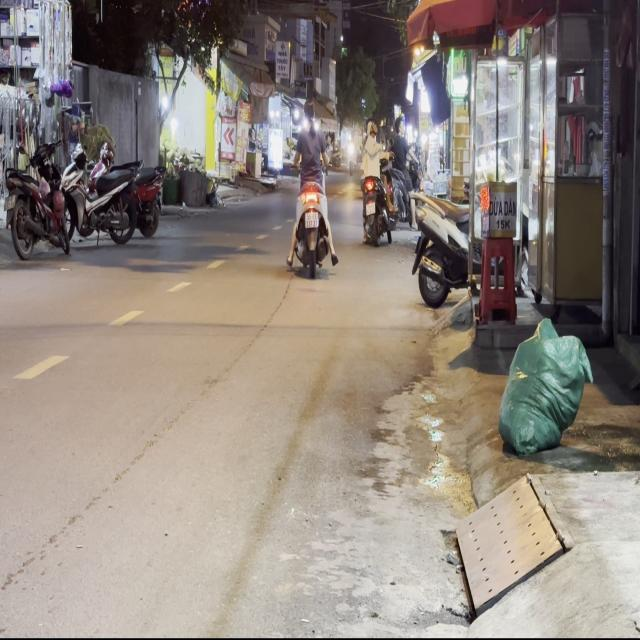licenseplate: (286, 94, 336, 276)
motorcyclist: (302, 97, 317, 126)
nohelmet: (305, 212, 319, 228)
